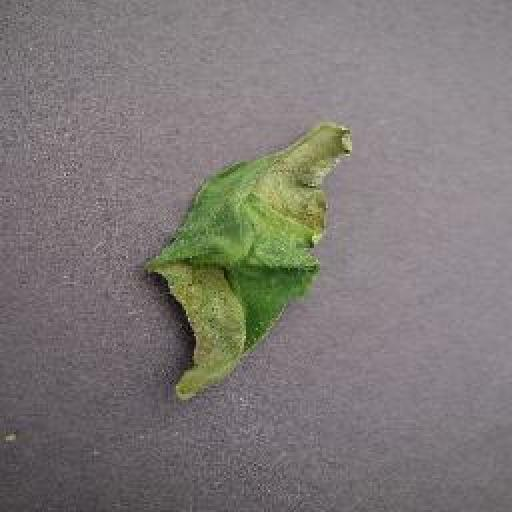Late Blight: (141, 119, 356, 405)
